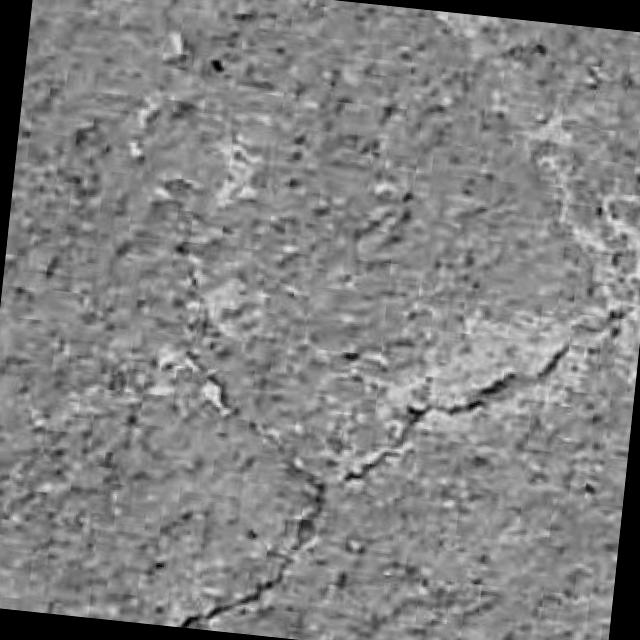crack: (340, 340, 571, 484), (177, 461, 326, 628), (340, 403, 435, 485)
